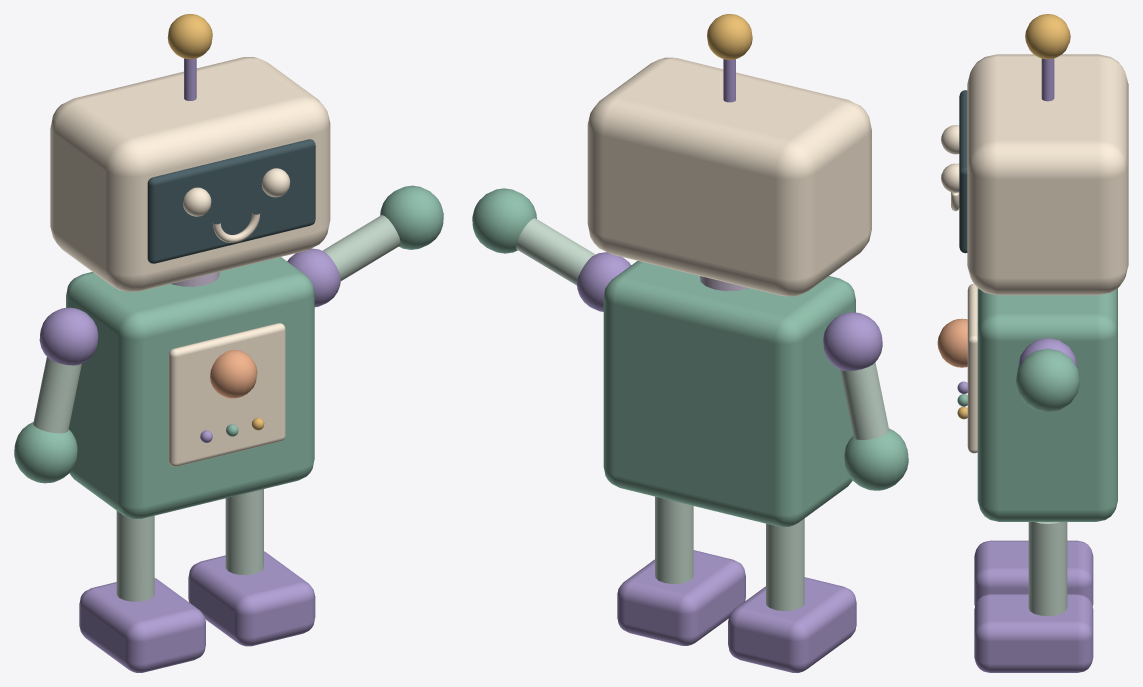
File: wonder-bot.glb
3 views of the same model, side by side, from view 1: azimuth 30°, elevation 25°; view 2: azimuth 150°, elevation 25°; view 3: azimuth 270°, elevation 25° (orthographic).
Parts seen in each view (by area): view 1: MintBody, CreamHead, FaceDisplay, ChestPanel, LeftShoe, RightShoe, LeftLeg, RightLeg, RightHand, LeftHand, LeftShoulder, RightForearm (+6 smaller); view 2: MintBody, CreamHead, LeftShoe, RightShoe, LeftLeg, RightLeg, RightHand, LeftHand, LeftShoulder, RightForearm, LeftForearm, RightShoulder (+1 smaller); view 3: CreamHead, MintBody, RightShoe, LeftShoe, RightLeg, RightHand, ChestPanel, AntennaLight, FaceDisplay, HeartLight, RightShoulder, Antenna (+2 smaller).
Boxes of the visible parts, x1=… form: MintBody: x1=66, y1=257, x2=314, y2=518; CreamHead: x1=50, y1=57, x2=330, y2=291; FaceDisplay: x1=147, y1=139, x2=315, y2=263; ChestPanel: x1=168, y1=323, x2=285, y2=466; LeftShoe: x1=79, y1=578, x2=205, y2=672; RightShoe: x1=188, y1=551, x2=315, y2=646; LeftLeg: x1=116, y1=511, x2=154, y2=601; RightLeg: x1=225, y1=489, x2=263, y2=575; RightHand: x1=380, y1=185, x2=443, y2=249; LeftHand: x1=14, y1=422, x2=77, y2=483; LeftShoulder: x1=39, y1=307, x2=98, y2=365; RightForearm: x1=322, y1=215, x2=400, y2=280; MintBody: x1=603, y1=261, x2=855, y2=526; CreamHead: x1=587, y1=57, x2=871, y2=296; LeftShoe: x1=728, y1=577, x2=856, y2=672; RightShoe: x1=617, y1=550, x2=745, y2=645; LeftLeg: x1=766, y1=518, x2=804, y2=610; RightLeg: x1=655, y1=496, x2=693, y2=583; RightHand: x1=472, y1=188, x2=536, y2=253; LeftHand: x1=844, y1=428, x2=908, y2=490; LeftShoulder: x1=823, y1=312, x2=882, y2=370; RightForearm: x1=516, y1=218, x2=595, y2=285; LeftForearm: x1=840, y1=362, x2=889, y2=439; RightShoulder: x1=577, y1=252, x2=631, y2=311; CreamHead: x1=967, y1=54, x2=1128, y2=295; MintBody: x1=977, y1=288, x2=1117, y2=521; RightShoe: x1=974, y1=594, x2=1093, y2=672; LeftShoe: x1=974, y1=540, x2=1093, y2=605; RightLeg: x1=1028, y1=522, x2=1067, y2=616; RightHand: x1=1015, y1=348, x2=1079, y2=412; ChestPanel: x1=967, y1=284, x2=977, y2=453; AntennaLight: x1=1025, y1=14, x2=1070, y2=59; FaceDisplay: x1=959, y1=90, x2=967, y2=253; HeartLight: x1=937, y1=318, x2=967, y2=367; RightShoulder: x1=1018, y1=338, x2=1077, y2=367; Antenna: x1=1041, y1=58, x2=1054, y2=101.
Size of the model in its own units: 1.39 by 1.94 by 0.545.
